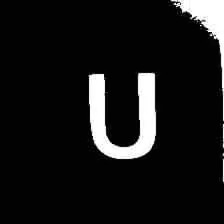LTR_U: (79, 63, 158, 163)
